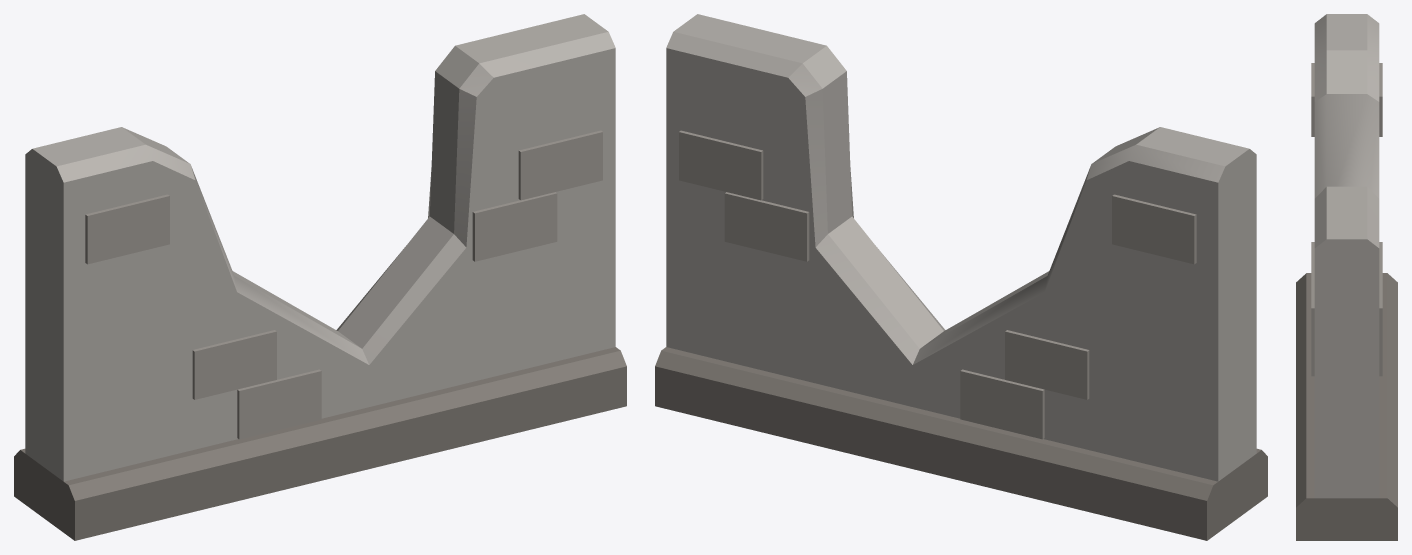
Rendered from Wall 03.FBX.
3 renders of one model, left to right at view 1: azimuth 30°, elevation 25°; view 2: azimuth 150°, elevation 25°; view 3: azimuth 270°, elevation 25°, orthographic. The views are drawn at different scales.
Parts seen in each view (by area): view 1: Wall 03; view 2: Wall 03; view 3: Wall 03.
Part boxes in pixels (<box>): Wall 03: <box>14,14,626,540</box>; Wall 03: <box>655,14,1267,540</box>; Wall 03: <box>1296,14,1397,540</box>.
Bounding box in the file's own units: 400 × 250 × 76.34.
1 material, 1 textured.
